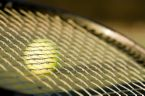tennis ball: (20, 34, 65, 80)
